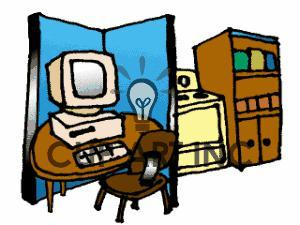chair: (94, 125, 176, 215)
tvmonitor: (37, 48, 117, 121)
